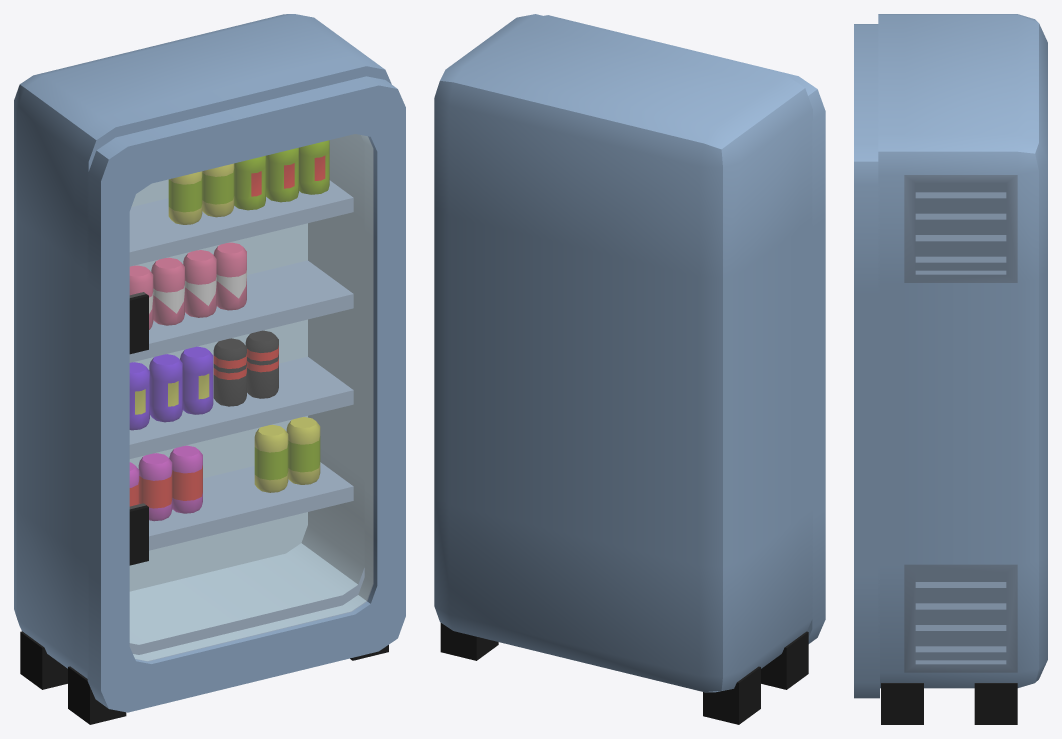
File: Can Fridge.glb
3 views of the same model, side by side, from view 1: azimuth 30°, elevation 25°; view 2: azimuth 150°, elevation 25°; view 3: azimuth 270°, elevation 25° (orthographic). The views are drawn at different scales.
Visible parts, largest first — view 1: Environment_CanFridge, Environment_CanFridge_Door_Environment_CanFridge_Door_Glass, Environment_CanFridge_Door_Environment_CanFridge_Door_Atlas; view 2: Environment_CanFridge, Environment_CanFridge_Door_Environment_CanFridge_Door_Atlas; view 3: Environment_CanFridge, Environment_CanFridge_Door_Environment_CanFridge_Door_Atlas.
Boxes of the visible parts, <box> form: Environment_CanFridge: <box>14,14,391,724</box>; Environment_CanFridge_Door_Environment_CanFridge_Door_Glass: <box>130,134,373,661</box>; Environment_CanFridge_Door_Environment_CanFridge_Door_Atlas: <box>87,76,405,712</box>; Environment_CanFridge: <box>434,14,812,724</box>; Environment_CanFridge_Door_Environment_CanFridge_Door_Atlas: <box>544,15,825,643</box>; Environment_CanFridge: <box>878,14,1047,724</box>; Environment_CanFridge_Door_Environment_CanFridge_Door_Atlas: <box>854,24,879,698</box>.
Size of the model in its own units: 2.36 by 4.39 by 1.33.
2 materials, 1 textured.
